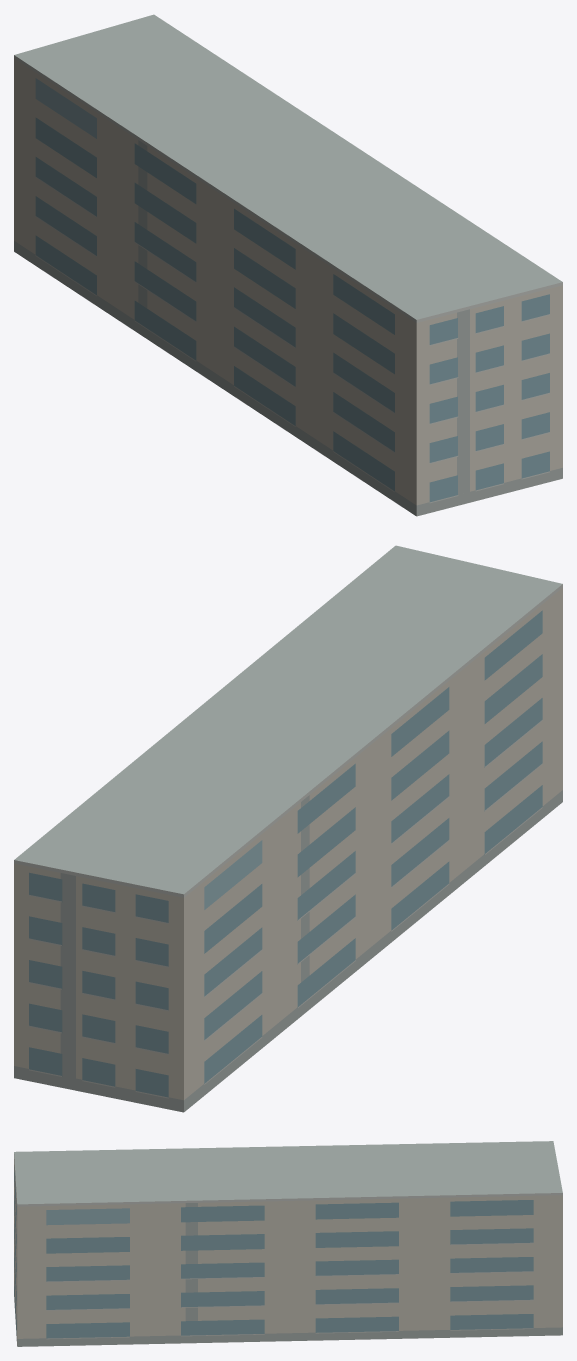
File: survey-upis-32730605.glb
3 views of the same model, one above another, from view 1: azimuth 30°, elevation 25°; view 2: azimuth 150°, elevation 25°; view 3: azimuth 270°, elevation 25° (orthographic). The views are drawn at different scales.
Parts seen in each view (by area): view 1: survey-upis-32730605.tmp; view 2: survey-upis-32730605.tmp; view 3: survey-upis-32730605.tmp.
Part boxes in pixels (left/top/right/bottom): survey-upis-32730605.tmp: left=14, top=14, right=562, bottom=516; survey-upis-32730605.tmp: left=14, top=545, right=562, bottom=1112; survey-upis-32730605.tmp: left=14, top=1141, right=562, bottom=1346.
Bounding box in the file's own units: 14.54 × 15.25 × 53.24.
